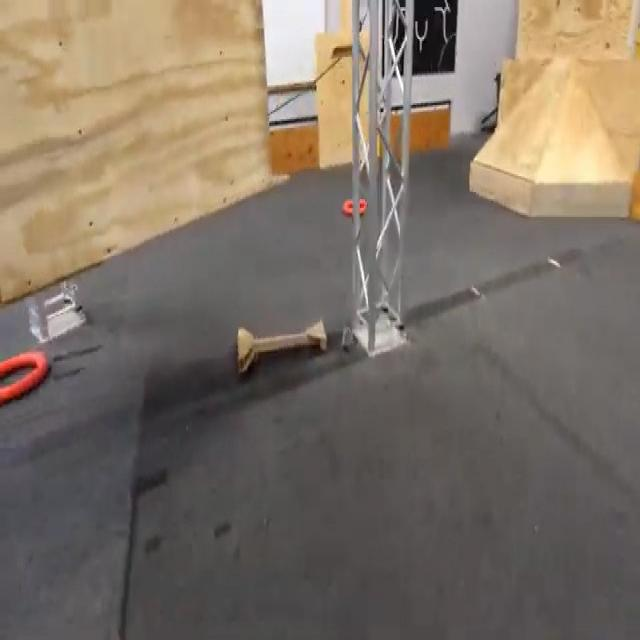note: (0, 348, 47, 404), (341, 196, 369, 217)
